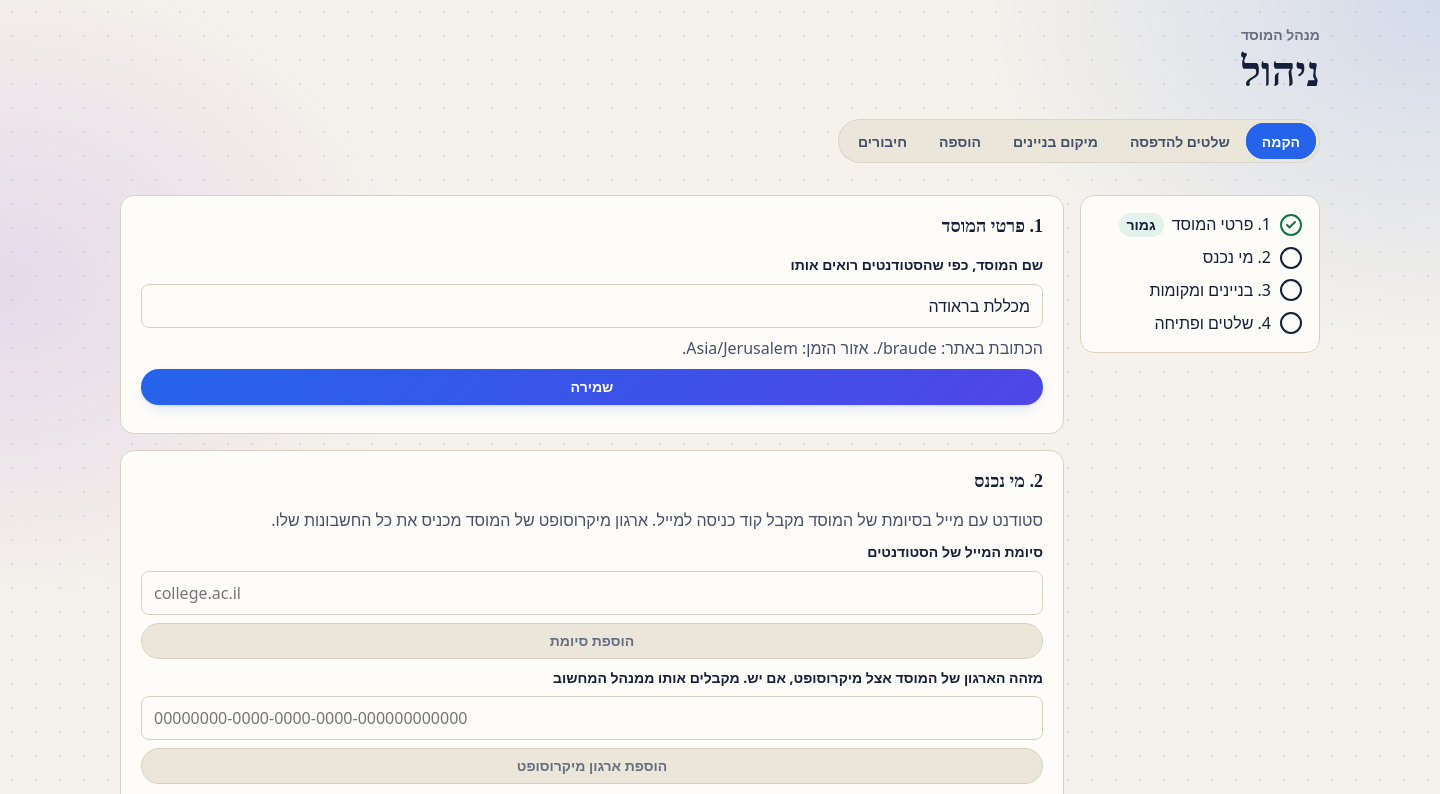
Test: AdminPage › signs: an institution with no places is told how signs come about
Click the button "שלטים להדפסה": (1180, 141) [1114,123,1246,159]
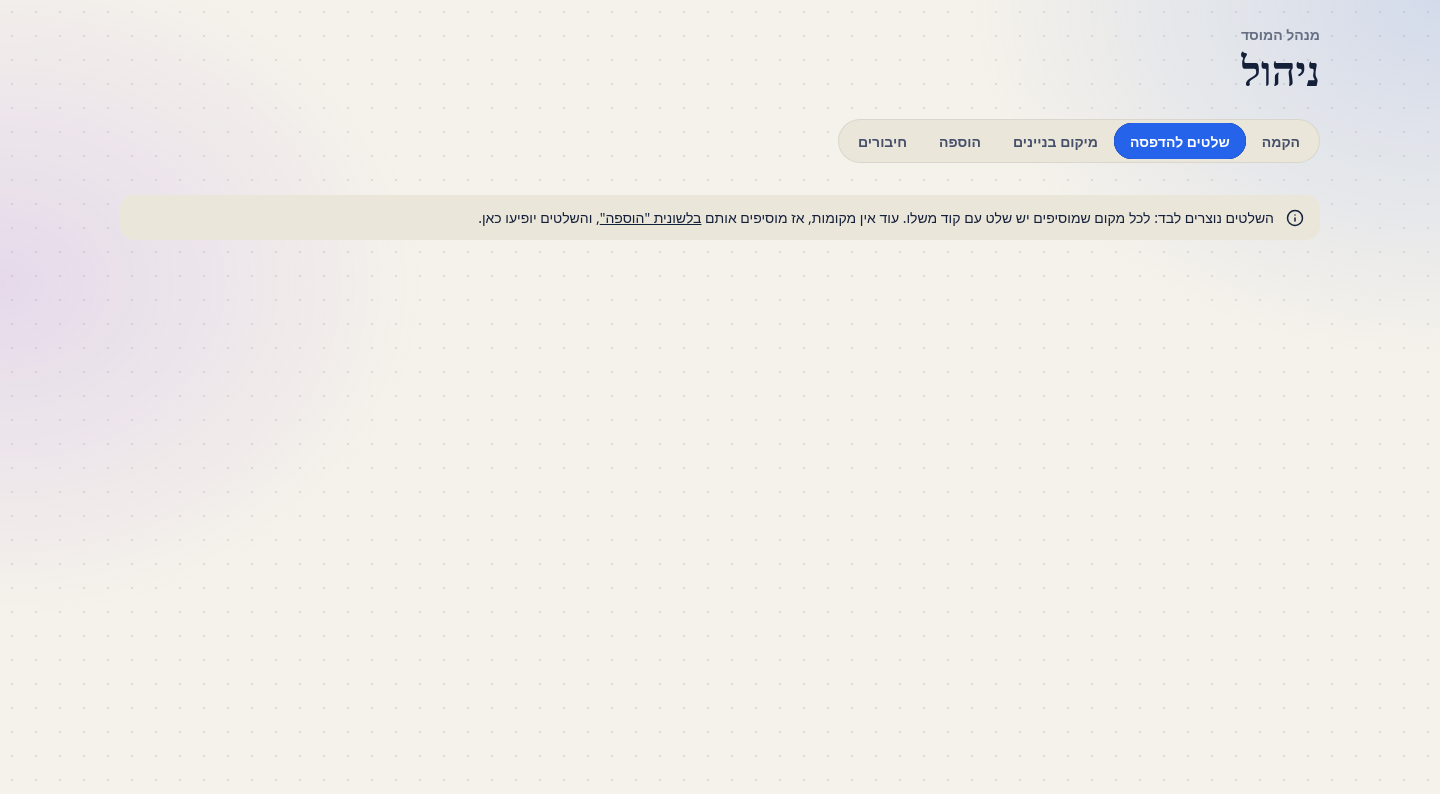
Check: the text "השלטים נוצרים לבד" is shown, box [702,208,1274,227]
